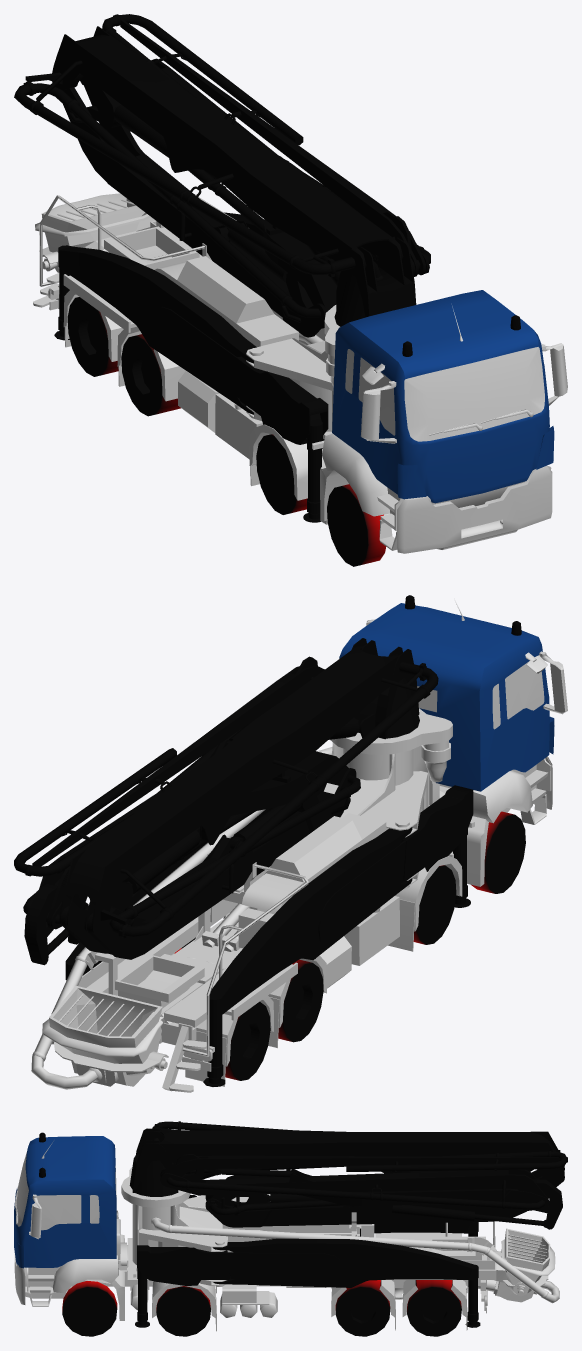
Rendered from Liebherr_41M5_IOS.fbx.
3 views of the same model, one above another, from view 1: azimuth 30°, elevation 25°; view 2: azimuth 150°, elevation 25°; view 3: azimuth 270°, elevation 25° (orthographic). The views are drawn at different scales.
Parts seen in each view (by area): view 1: body, wheels, windows; view 2: body, wheels, windows; view 3: body, wheels, windows.
Boxes of the visible parts, x1=… form: body: x1=14, y1=14, x2=567, y2=553; wheels: x1=67, y1=297, x2=386, y2=566; windows: x1=345, y1=347, x2=544, y2=441; body: x1=14, y1=595, x2=567, y2=1092; wheels: x1=174, y1=811, x2=525, y2=1080; windows: x1=417, y1=661, x2=544, y2=729; body: x1=14, y1=1121, x2=567, y2=1331; wheels: x1=62, y1=1280, x2=461, y2=1336; windows: x1=15, y1=1152, x2=116, y2=1230.
Size of the model in its own units: 0.028 by 0.0343 by 0.0981.
